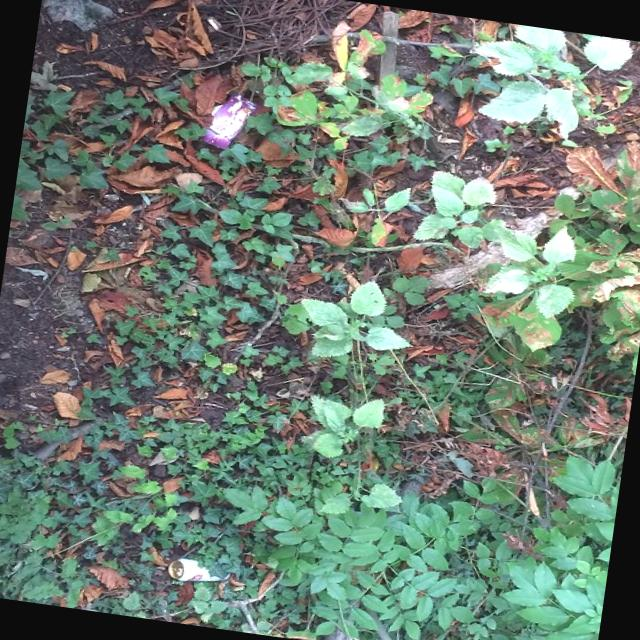Trash: (199, 85, 260, 156)
